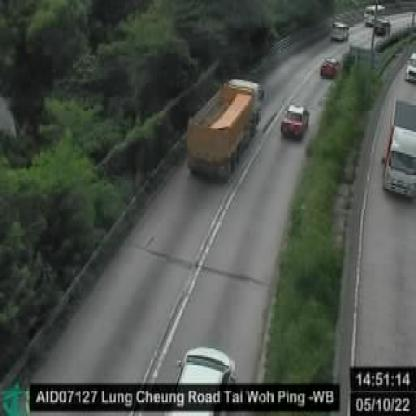Car: (281, 102, 308, 137), (320, 54, 336, 74), (332, 21, 348, 38)
Truck: (185, 80, 261, 175), (384, 99, 414, 204)
